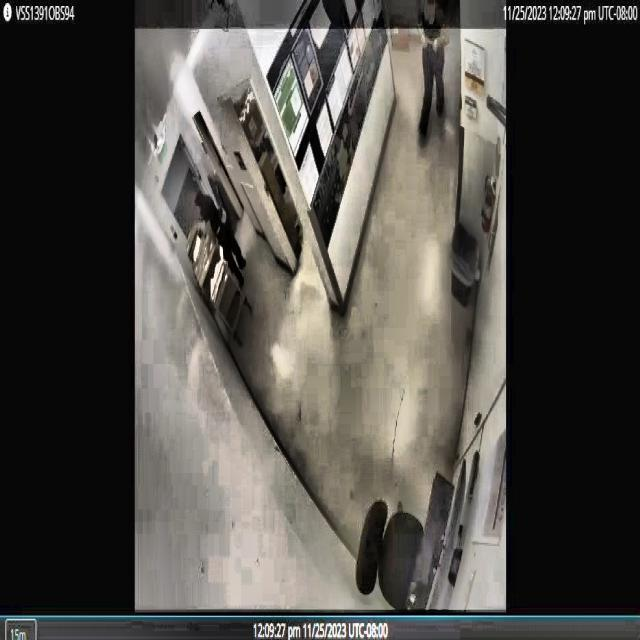not-gloved: (412, 34, 448, 63)
